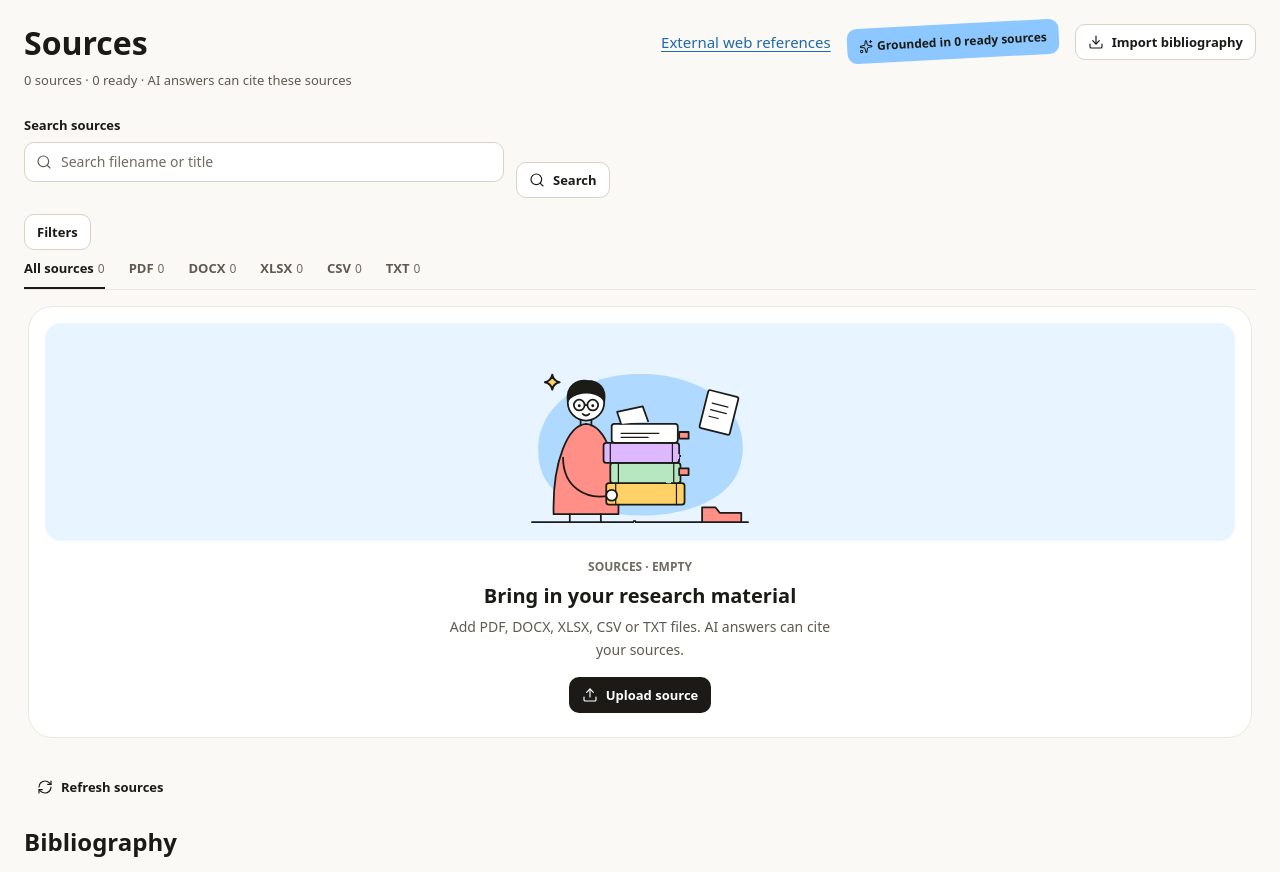
Test case: opens the upload dialog from the empty action and supports empty type tabs
The image size is (1280, 872).
Expected: the heading "Bring in your research material" is shown, [484,582,796,610]
Step 1. Click the tab "TXT 0" → (403, 269), box [386,250,420,289]
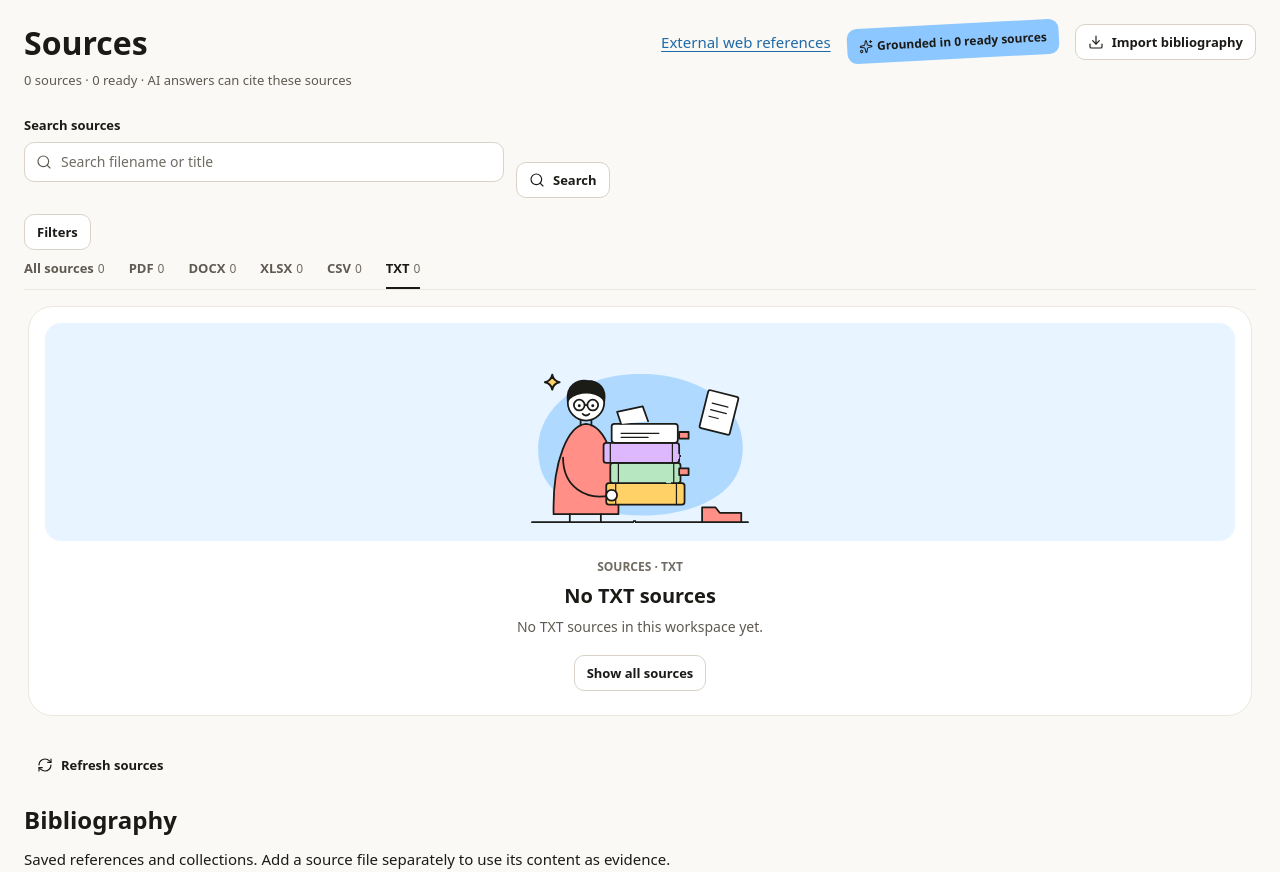
Now the text "No TXT sources in this workspace yet." is shown, box [517,618,763,636]
Step 2. Click the button "Show all sources" → (640, 673), box [574,655,706,691]
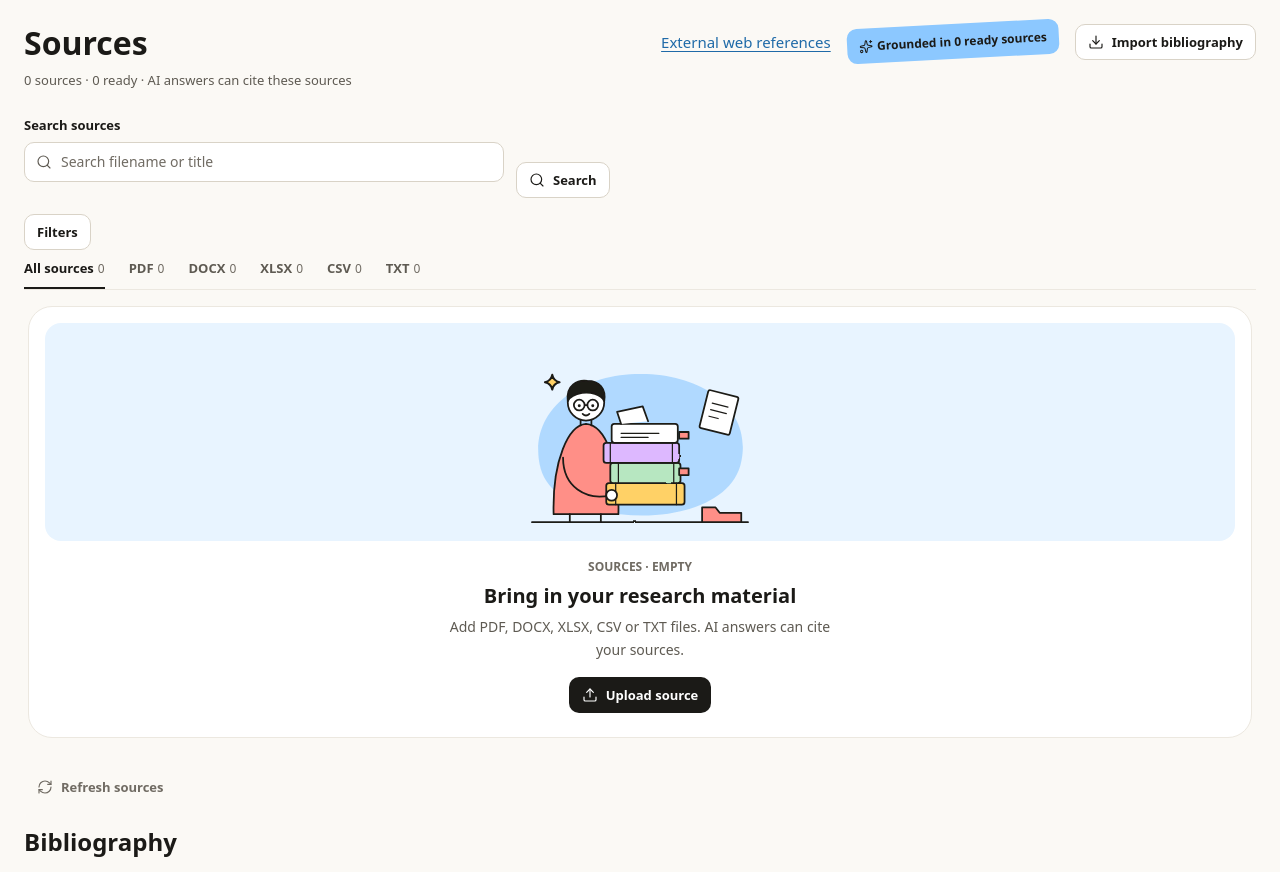
Now the heading "Bring in your research material" is shown, box [484,582,796,610]
Step 3. Click the button "Upload source" → (640, 695), box [569,677,711,713]
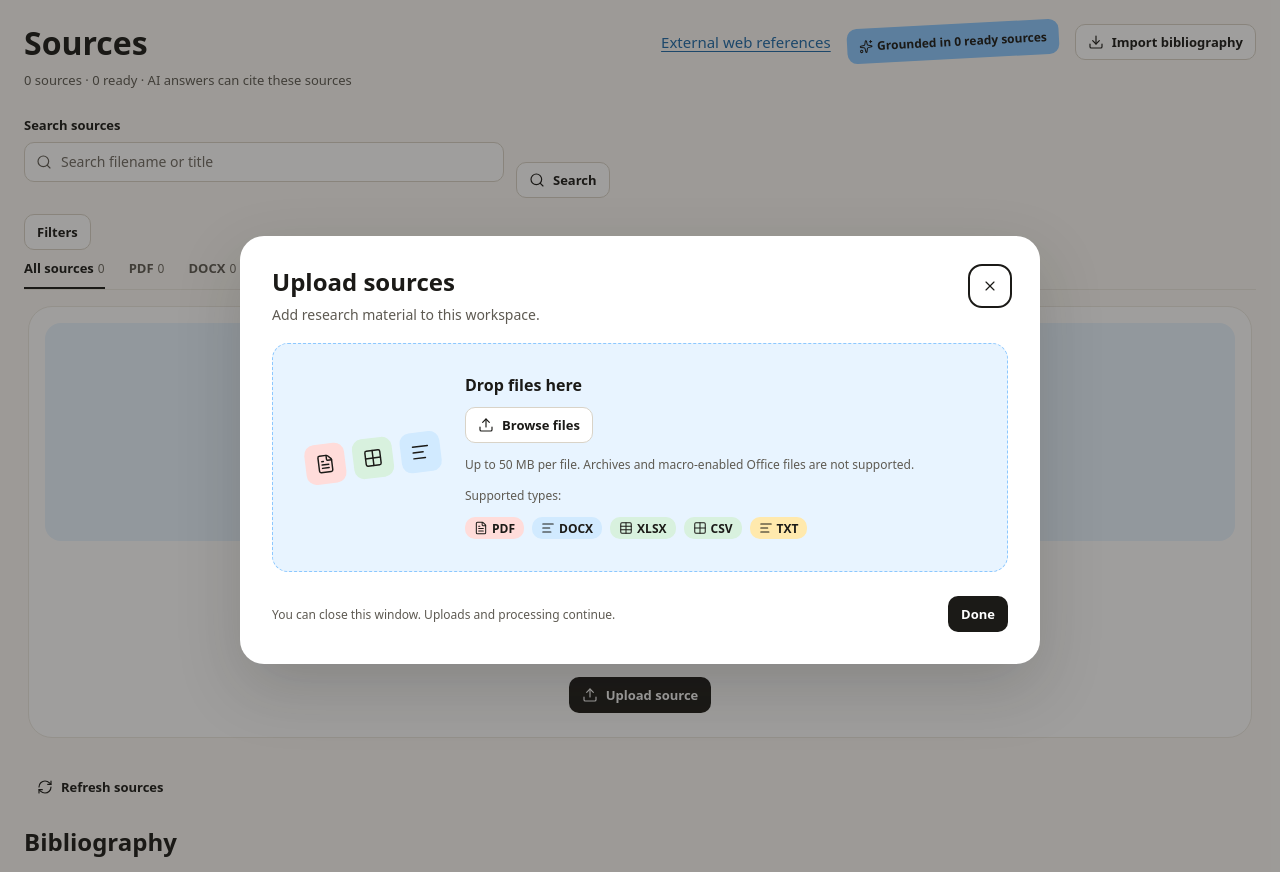
Now the dialog "Upload sources" is shown, box [240,236,1040,664]
Step 4. Click the button "Done" → (978, 614), box [948,596,1008,632]
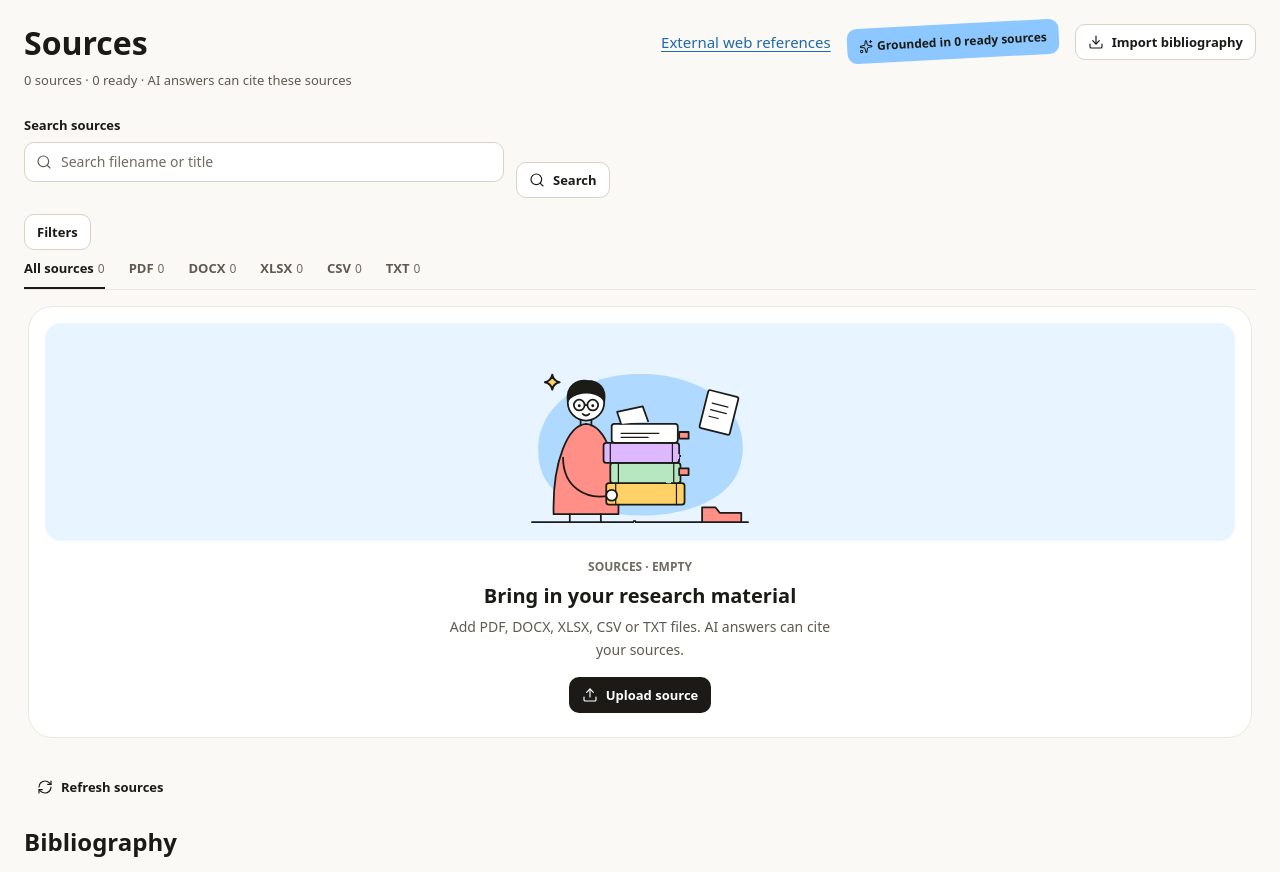
Now the dialog is gone
